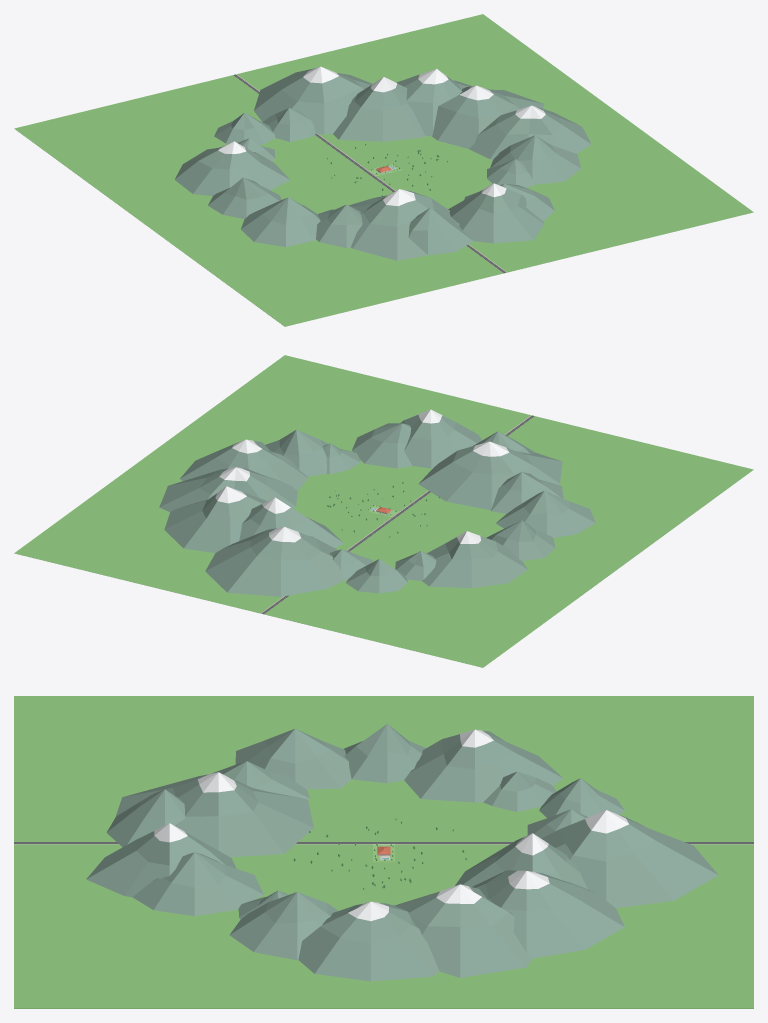
File: house.glb
3 renders of one model, top to bottom at view 1: azimuth 30°, elevation 25°; view 2: azimuth 150°, elevation 25°; view 3: azimuth 270°, elevation 25°, orthographic. The views are drawn at different scales.
Parts seen in each view (by area): view 1: scenery-fields, scenery-mountains, scenery-snow; view 2: scenery-fields, scenery-mountains, scenery-snow; view 3: scenery-fields, scenery-mountains, scenery-snow, scenery-road.
Part boxes in pixels (x1,y1,x2,y2): scenery-fields: [14, 14, 753, 326]; scenery-mountains: [174, 68, 591, 260]; scenery-snow: [218, 66, 545, 206]; scenery-fields: [14, 355, 753, 667]; scenery-mountains: [159, 415, 595, 596]; scenery-snow: [215, 409, 509, 543]; scenery-fields: [14, 696, 753, 1008]; scenery-mountains: [86, 724, 718, 981]; scenery-snow: [154, 729, 628, 921]; scenery-road: [14, 842, 753, 843].
Size of the model in its own units: 1200 by 101 by 1200.
35 materials, 8 textured.
